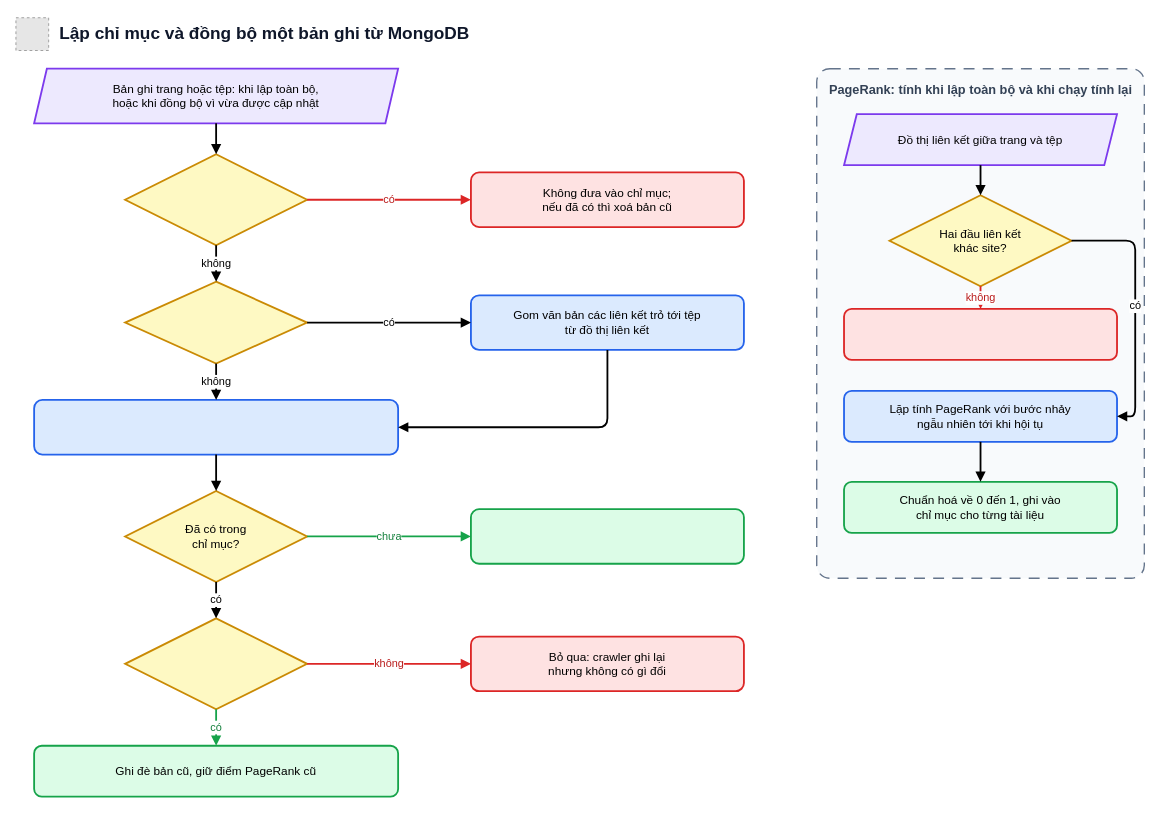
Image size: 1161x813. Some labels were removed from this diagram. Grey dashed boxes stand in for pictures. Each missing label, with the centre of its shape:
"Bỏ: menu, chân trang, phân trang trong cùng một site" goes at [980,334].
"Nội dung khác bản cũ?" goes at [216,663].
"Thêm tài liệu mới, PageRank chờ lần tính sau" goes at [607,536].
"Tiền xử lý tiêu đề, văn bản liên kết, nội dung; tính dấu vân tay nội dung" goes at [216,427].
"Trang trùng nội dung hoặc rỗng?" goes at [216,199].
"Tệp tài liệu?" goes at [216,322].
